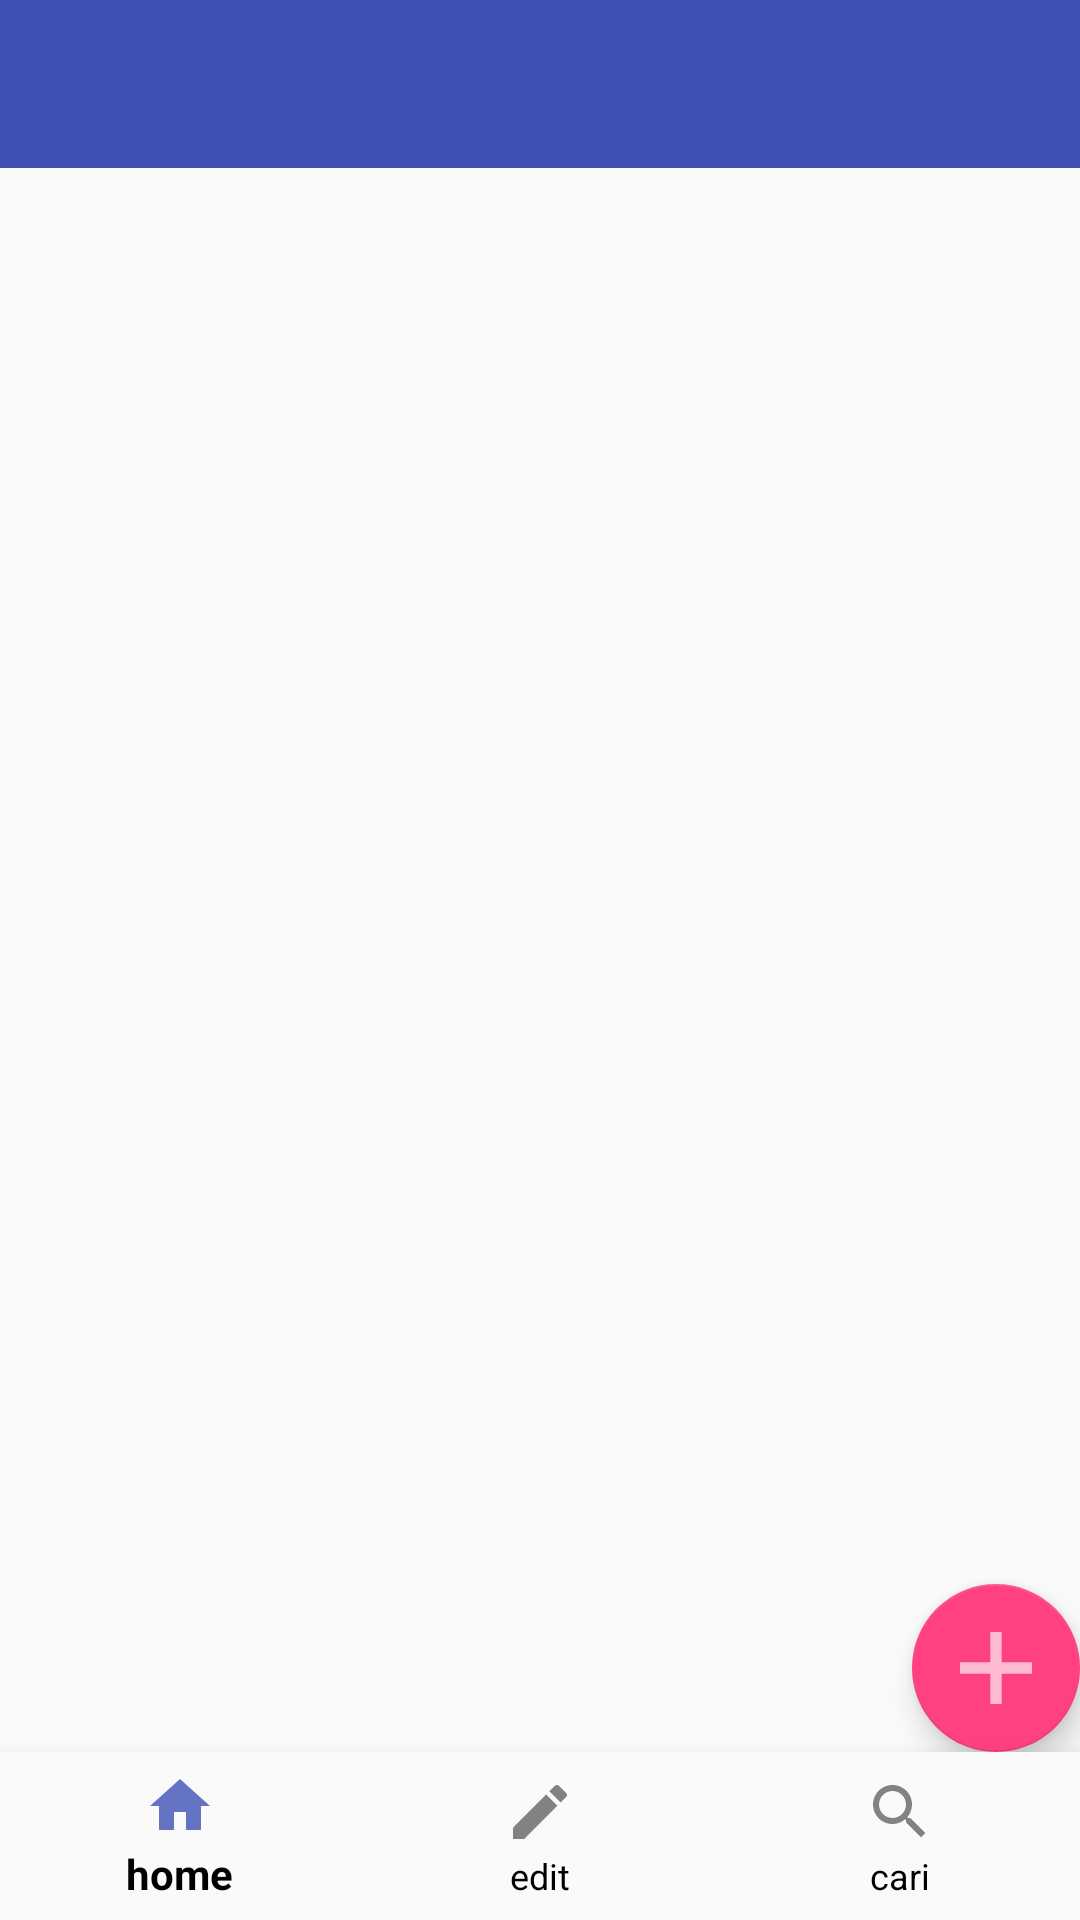

Icons on this 1080px x 1920px Android screen, each with its box as box(x1, y1, x2, y2):
add: box(912, 1584, 1080, 1752)
